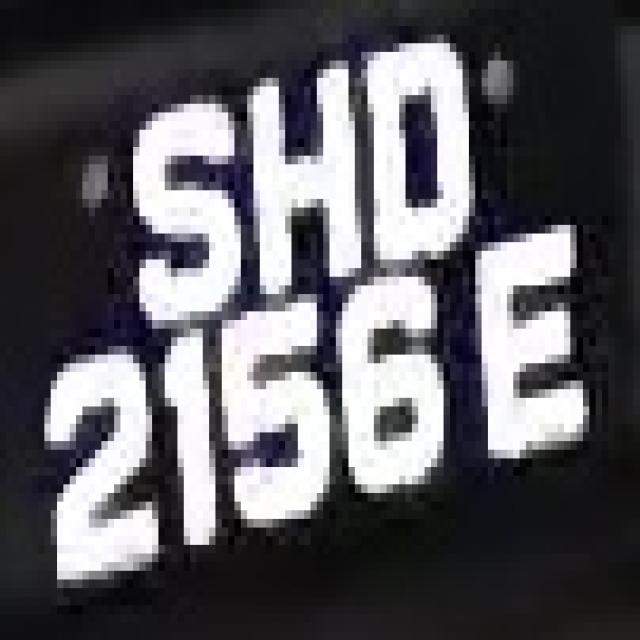1: (152, 303, 235, 562)
2: (38, 337, 171, 614)
5: (209, 286, 349, 536)
6: (323, 259, 463, 536)
D: (368, 26, 482, 259)
E: (469, 199, 608, 476)
H: (215, 35, 374, 302)
S: (114, 60, 254, 328)
